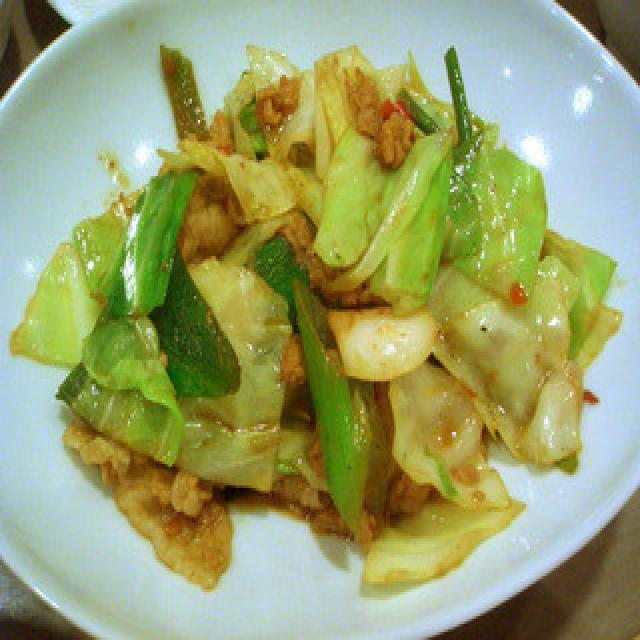蔬菜料理: (20, 37, 596, 576)
